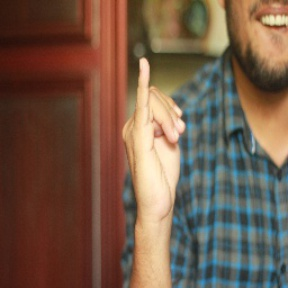I: (118, 52, 193, 221)
